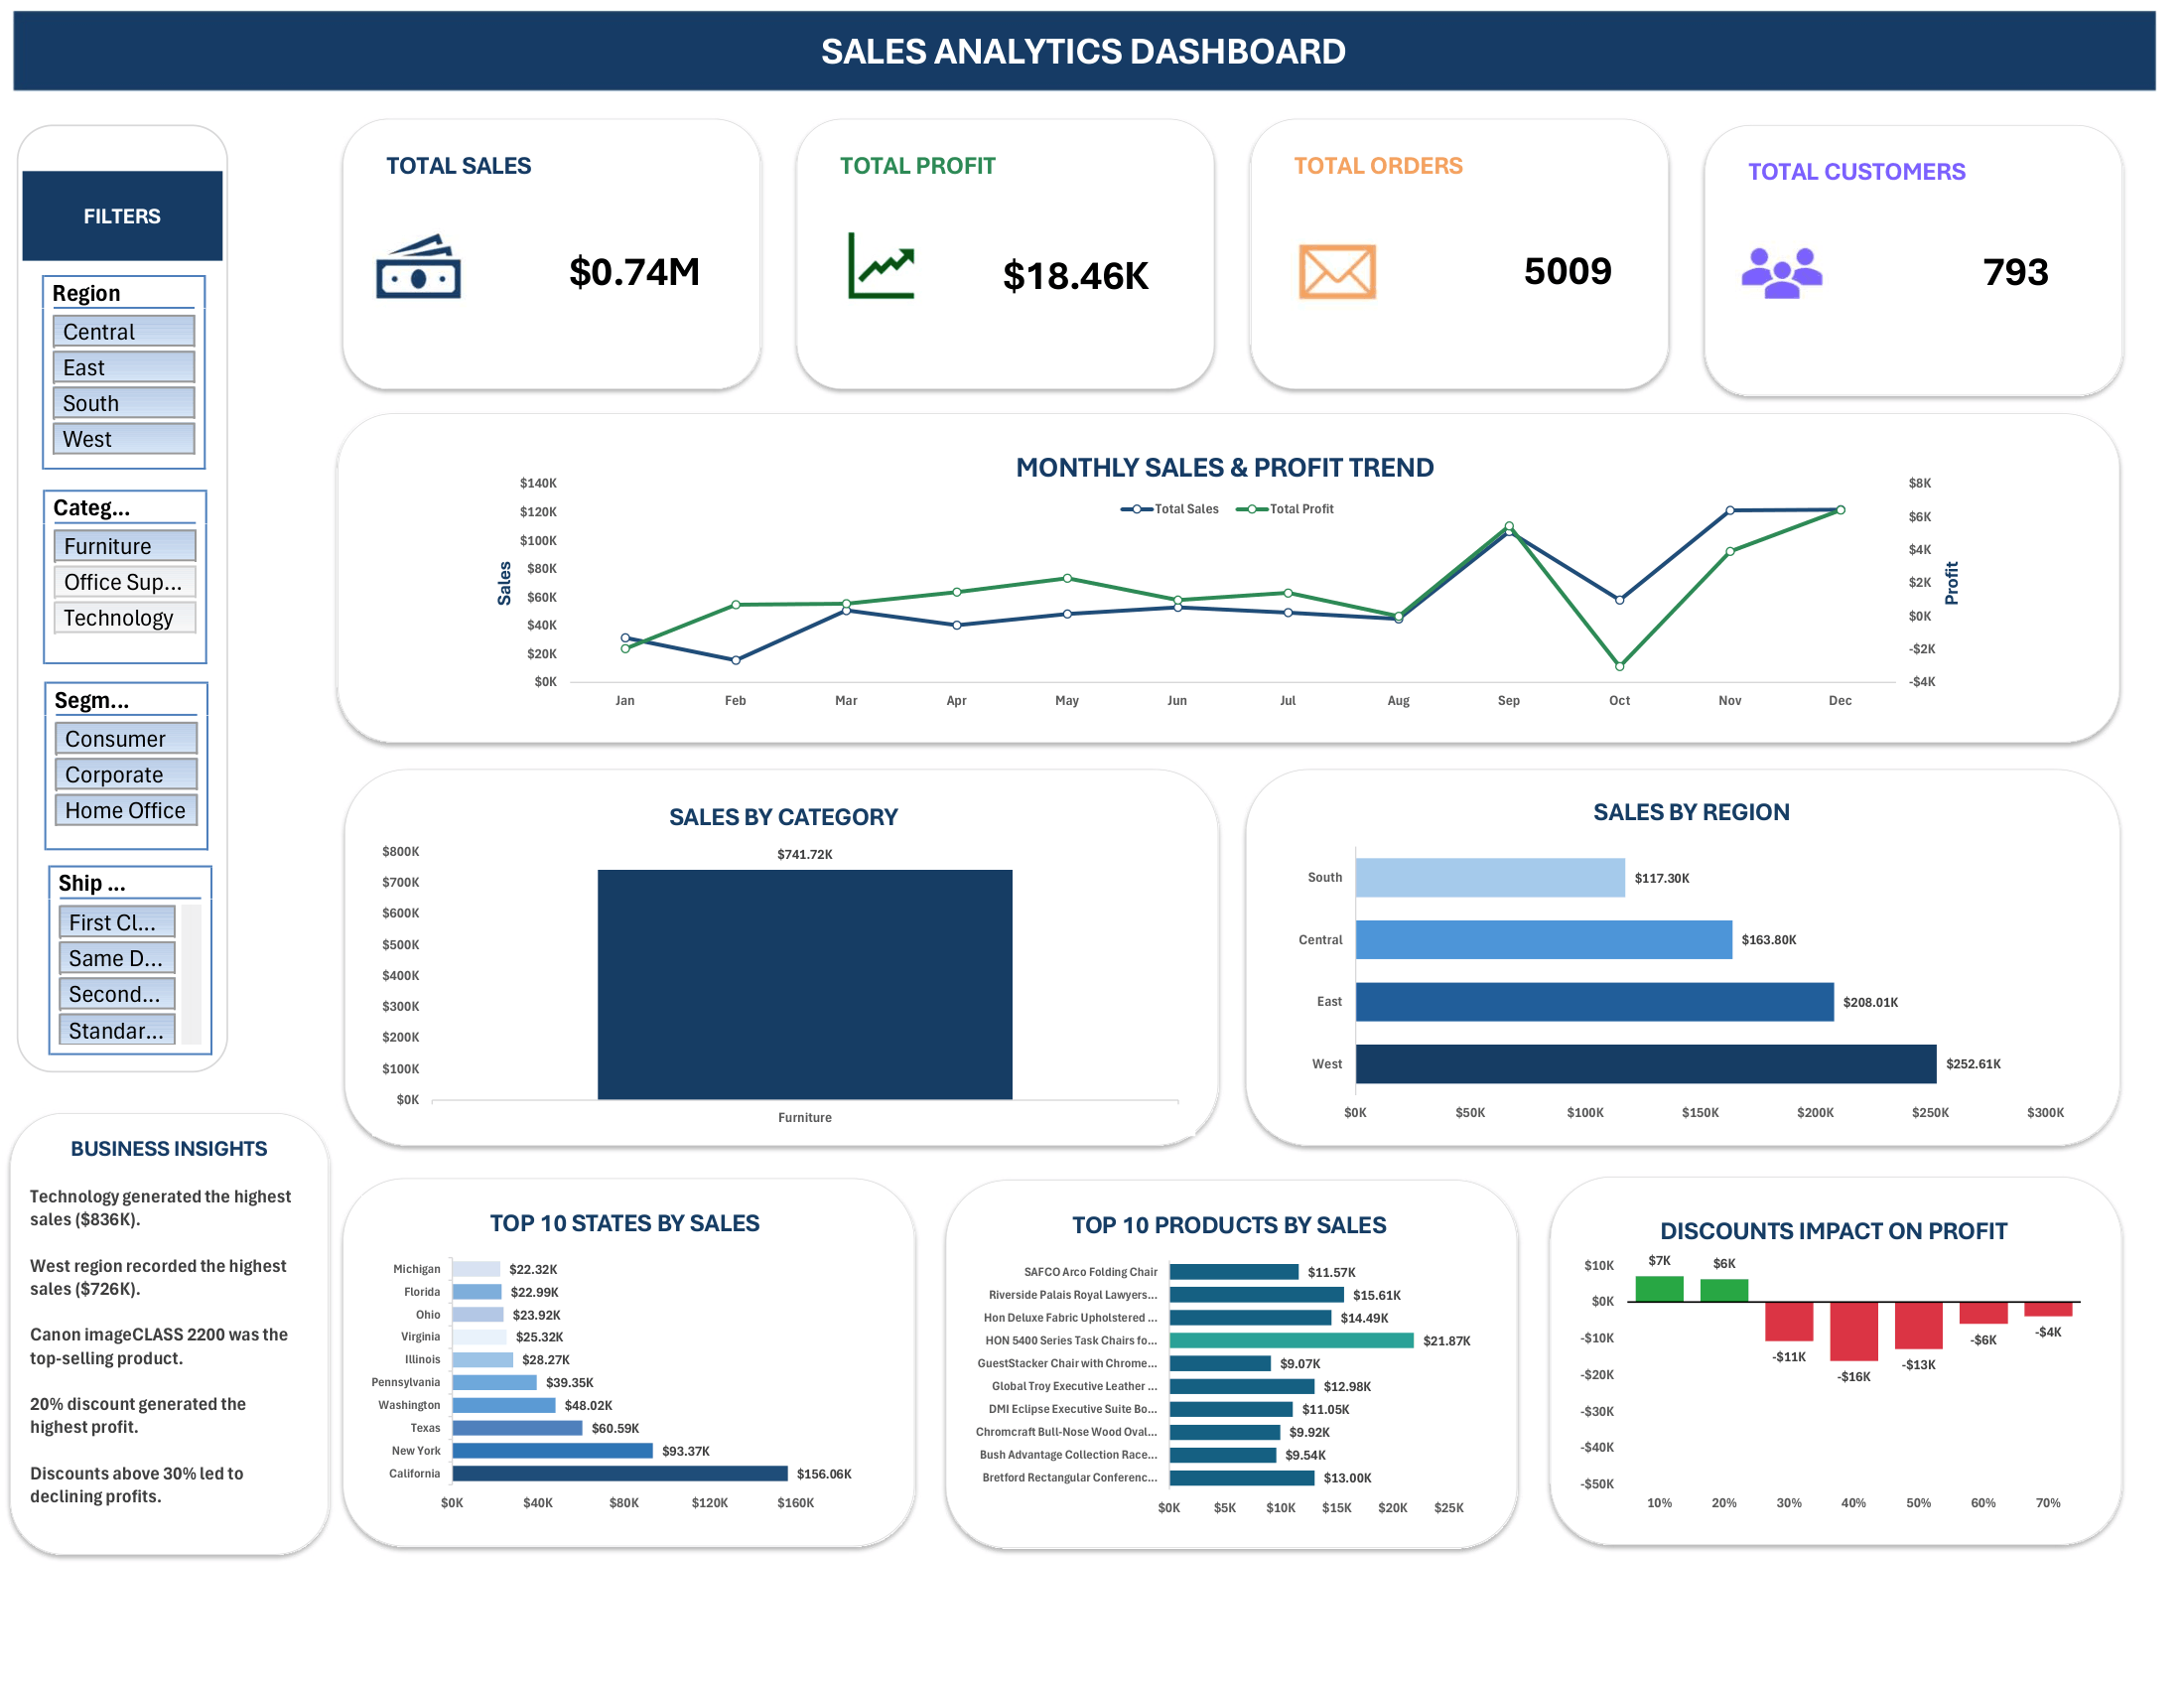

What the dashboard file says about the page in this screenshot:
{"tool":"powerbi","page":{"name":"Page 1","canvas":[1420,964],"ordinal":0},"visuals":[{"type":"shape","box":[0,0,1420.1,60.3],"z":0},{"type":"textbox","box":[447.7,0,627.1,60.3],"z":1000},{"type":"image","box":[395,6,52.8,46.7],"z":2000},{"type":"group","id":"g1","title":"Group 1","box":[186.9,60.3,1233.2,150.8],"z":3000},{"type":"shape","box":[803.5,214.1,616.6,223.1],"z":3000,"group":"g7"},{"type":"cardVisual","fields":{"Data":["sales_analytics superstore_staging.TOTAL SALES","sales_analytics superstore_staging.TOTAL PROFIT","sales_analytics superstore_staging.Orders Display","sales_analytics superstore_staging.TOTAL CUSTOMERS"]},"box":[186.9,60.3,1232.6,151.2],"z":4000,"group":"g1"},{"type":"shape","box":[186.9,214.1,612.1,223.1],"z":4000,"group":"g6"},{"type":"group","id":"g2","title":"Group 2","box":[1014.3,654,405.7,305.8],"z":4000},{"type":"image","box":[505.9,130.3,86.4,63.3],"z":5000,"group":"g1"},{"type":"group","id":"g3","title":"Group 3","box":[658.5,654,348.2,305.8],"z":5000},{"type":"image","box":[814.7,137.1,72,63.3],"z":6000,"group":"g1"},{"type":"clusteredColumnChart","title":"SALES BY CATEGORY","fields":{"Y":["Sum(sales_analytics superstore_staging.Sales)"],"Category":["sales_analytics superstore_staging.Category"]},"box":[194.4,217.1,595.5,215.6],"z":6000,"group":"g6"},{"type":"group","id":"g4","title":"Group 4","box":[304.3,652.5,343.6,305.8],"z":6000},{"type":"image","box":[1113,125.5,85.1,68.5],"z":7000,"group":"g1"},{"type":"clusteredBarChart","title":"SALES BY REGION","fields":{"Category":["sales_analytics superstore_staging.Region"],"Y":["Sum(sales_analytics superstore_staging.Sales)"]},"box":[809.5,217.1,606,215.6],"z":7000,"group":"g7"},{"type":"group","id":"g5","title":"Group 5","box":[186.2,437.5,1229.2,208.9],"z":7000},{"type":"image","box":[202.3,119.1,95.5,84],"z":8000,"group":"g1"},{"type":"group","id":"g6","title":"Group 6","box":[186.9,214.1,612.1,223.1],"z":8000},{"type":"shape","box":[186.2,437.5,1229.2,208.9],"z":8000,"group":"g5"},{"type":"group","id":"g7","title":"Group 7","box":[803.5,214.1,616.6,223.1],"z":9000},{"type":"lineChart","title":"MONTHLY SALES & PROFIT TRENDS","fields":{"Category":["sales_analytics superstore_staging.Month"],"Y":["sales_analytics superstore_staging.SALES VALUE"],"Y2":["sales_analytics superstore_staging.PROFIT VALUE"]},"box":[193.7,444.4,1211.1,196.8],"z":9000,"group":"g5"},{"type":"shape","box":[4.5,65.1,175.6,581.3],"z":10000},{"type":"shape","box":[304.3,652.5,343.6,305.8],"z":10000,"group":"g4"},{"type":"shape","box":[658.5,654,348.2,305.8],"z":11000,"group":"g3"},{"type":"shape","box":[4.5,655.5,290.7,304.3],"z":11000},{"type":"textbox","box":[14.4,78.4,158.5,51.2],"z":12000},{"type":"shape","box":[1014.3,654,405.7,305.8],"z":12000,"group":"g2"},{"type":"slicer","fields":{"Values":["sales_analytics superstore_staging.Region"]},"box":[11.2,140.8,163.3,76.8],"z":13000},{"type":"clusteredBarChart","title":"TOP 10 STATES BY SALES","fields":{"Category":["sales_analytics superstore_staging.State"],"Y":["Sum(sales_analytics superstore_staging.Sales)"]},"box":[312,655.5,325.9,298.2],"z":13000,"group":"g4"},{"type":"clusteredBarChart","title":"TOP 10 PRODUCTS BY SALES","fields":{"Y":["Sum(sales_analytics superstore_staging.Sales)"],"Category":["sales_analytics superstore_staging.Product_Name"]},"box":[665,658.5,330,296.7],"z":13002,"group":"g3"},{"type":"clusteredColumnChart","title":"IMPACT OF DISCOUNTS ON PROFIT","fields":{"Y":["Sum(sales_analytics superstore_staging.Profit)"],"Category":["sales_analytics superstore_staging.Discount Label"]},"box":[1018.8,658.5,393,296.7],"z":13003,"group":"g2"},{"type":"slicer","fields":{"Values":["sales_analytics superstore_staging.State"]},"box":[14.4,248.1,163.3,76.8],"z":14000},{"type":"slicer","fields":{"Values":["sales_analytics superstore_staging.Category"]},"box":[11.2,368.1,163.3,76.8],"z":15000},{"type":"slicer","fields":{"Values":["sales_analytics superstore_staging.Segment"]},"box":[14.4,465.8,163.3,76.8],"z":16000},{"type":"slicer","fields":{"Values":["sales_analytics superstore_staging.Ship_Mode"]},"box":[11.2,565,163.3,76.8],"z":17000},{"type":"textbox","box":[22.7,658.5,254.3,50],"z":18000},{"type":"textbox","box":[15.1,708.5,272.5,245.2],"z":19000}]}

Visuals, with their boxes on the page's 1420x964 design canvas (x1, y1, x2, y2). These are canvas units, not pixel positions in the 2184x1688 screenshot, which may show the page scaled, cropped or inside an application window:
shape: bbox(0, 0, 1420, 60)
textbox: bbox(448, 0, 1075, 60)
image: bbox(395, 6, 448, 53)
"Group 1" group: bbox(187, 60, 1420, 211)
shape: bbox(804, 214, 1420, 437)
cardVisual - sales_analytics superstore_staging.TOTAL SALES x sales_analytics superstore_staging.TOTAL PROFIT: bbox(187, 60, 1420, 212)
shape: bbox(187, 214, 799, 437)
"Group 2" group: bbox(1014, 654, 1420, 960)
image: bbox(506, 130, 592, 194)
"Group 3" group: bbox(658, 654, 1007, 960)
image: bbox(815, 137, 887, 200)
"SALES BY CATEGORY" clusteredColumnChart: bbox(194, 217, 790, 433)
"Group 4" group: bbox(304, 652, 648, 958)
image: bbox(1113, 126, 1198, 194)
"SALES BY REGION" clusteredBarChart: bbox(810, 217, 1416, 433)
"Group 5" group: bbox(186, 438, 1415, 646)
image: bbox(202, 119, 298, 203)
"Group 6" group: bbox(187, 214, 799, 437)
shape: bbox(186, 438, 1415, 646)
"Group 7" group: bbox(804, 214, 1420, 437)
"MONTHLY SALES & PROFIT TRENDS" lineChart: bbox(194, 444, 1405, 641)
shape: bbox(4, 65, 180, 646)
shape: bbox(304, 652, 648, 958)
shape: bbox(658, 654, 1007, 960)
shape: bbox(4, 656, 295, 960)
textbox: bbox(14, 78, 173, 130)
shape: bbox(1014, 654, 1420, 960)
slicer - sales_analytics superstore_staging.Region: bbox(11, 141, 174, 218)
"TOP 10 STATES BY SALES" clusteredBarChart: bbox(312, 656, 638, 954)
"TOP 10 PRODUCTS BY SALES" clusteredBarChart: bbox(665, 658, 995, 955)
"IMPACT OF DISCOUNTS ON PROFIT" clusteredColumnChart: bbox(1019, 658, 1412, 955)
slicer - sales_analytics superstore_staging.State: bbox(14, 248, 178, 325)
slicer - sales_analytics superstore_staging.Category: bbox(11, 368, 174, 445)
slicer - sales_analytics superstore_staging.Segment: bbox(14, 466, 178, 543)
slicer - sales_analytics superstore_staging.Ship_Mode: bbox(11, 565, 174, 642)
textbox: bbox(23, 658, 277, 708)
textbox: bbox(15, 708, 288, 954)
